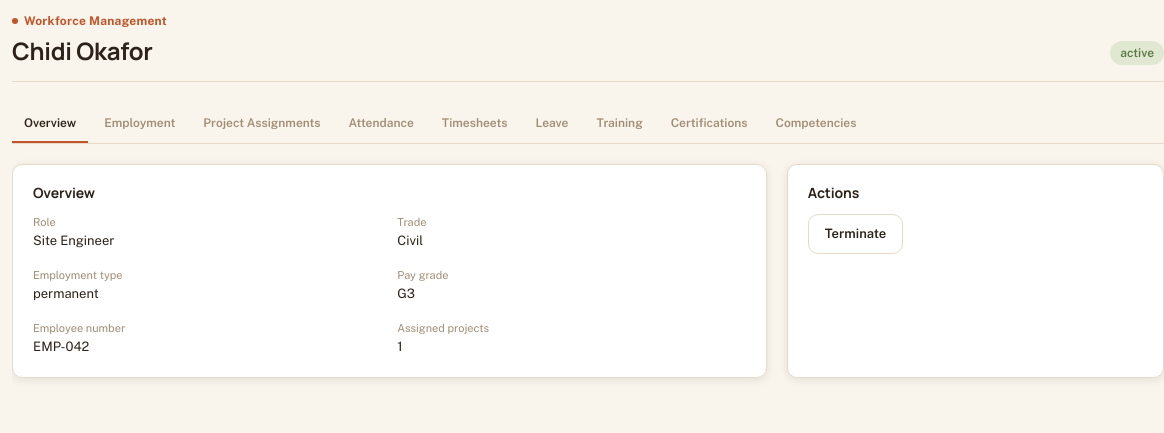
Test: EmployeeDetailPage › shows a real, honest empty state when there is no leave taken this year
The width and height of the screenshot is (1164, 433).
Expected: the heading "Chidi Okafor" is shown, [12,37,167,65]
Click the button "Leave".
click(552, 125)  # box [524,106,580,143]
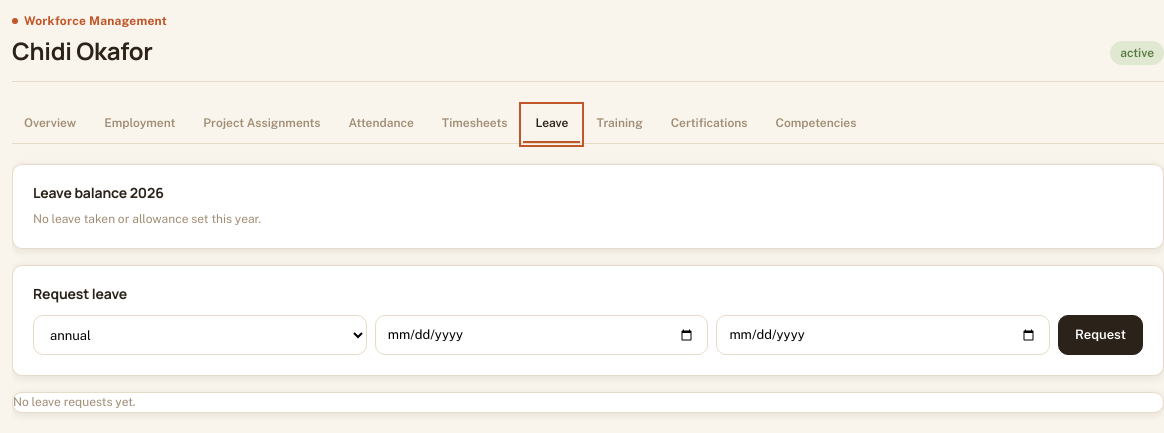
Expected: the text "No leave taken or allowance set this year." is shown, [33,212,261,226]
